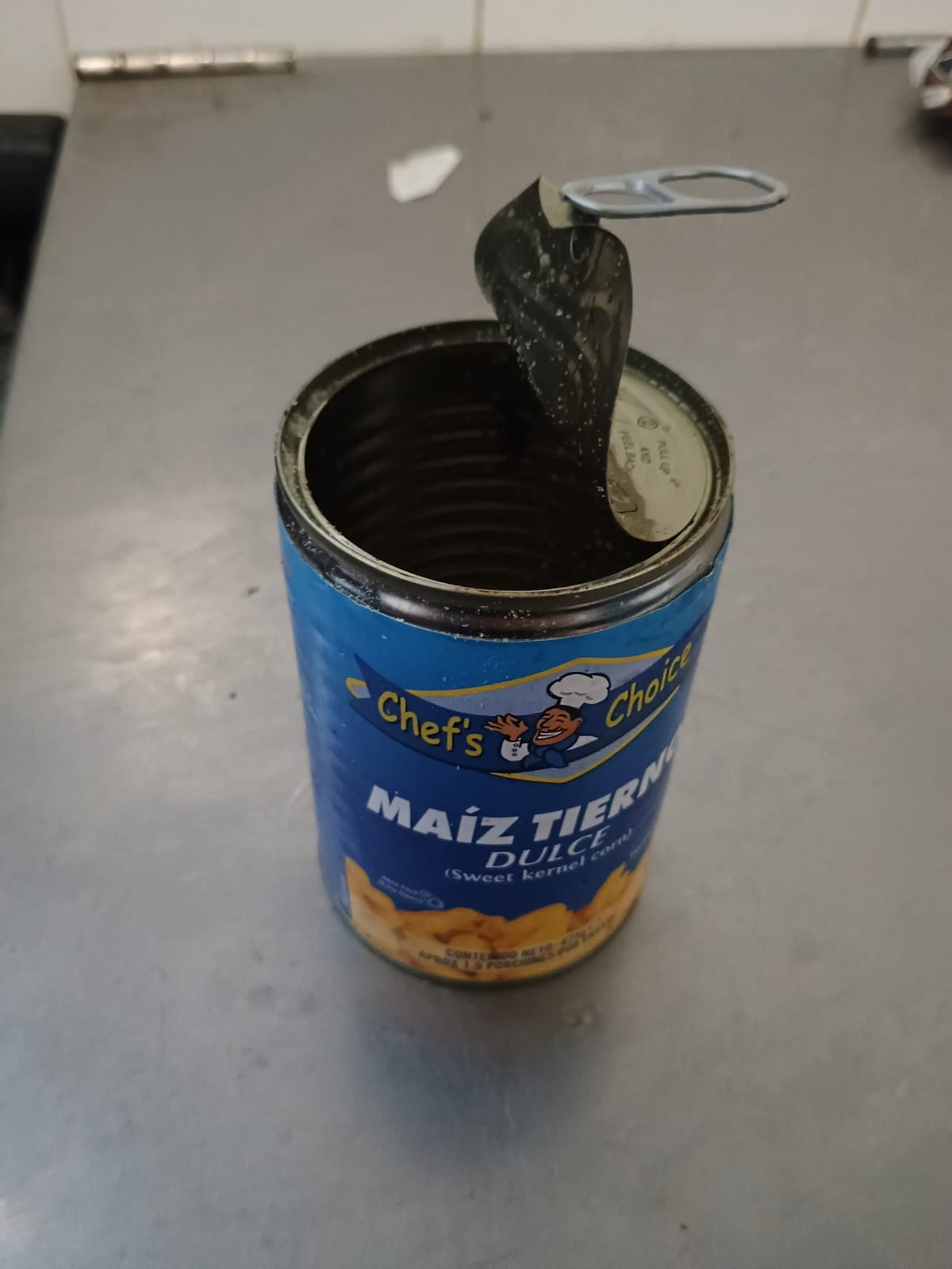Metal: (273, 165, 788, 986)
